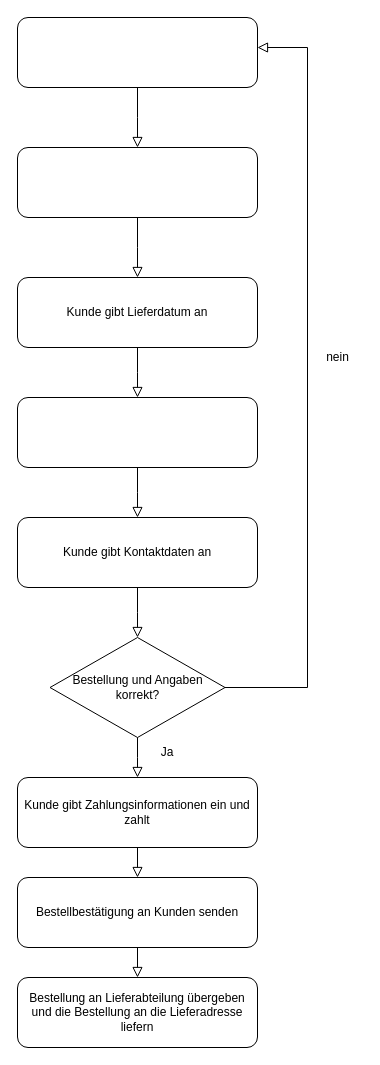
The diagram is 380 pixels wide and 1065 high, and some of its shapes have lost their labels. Each missing label, with the centre of its shape:
"Kunde fügt optionale Kartennachricht hinzu" belongs at point (137, 432).
"Kunde gibt Lieferadresse an" belongs at point (137, 182).
"Kunde wählt Blumenart und -menge" belongs at point (137, 52).
